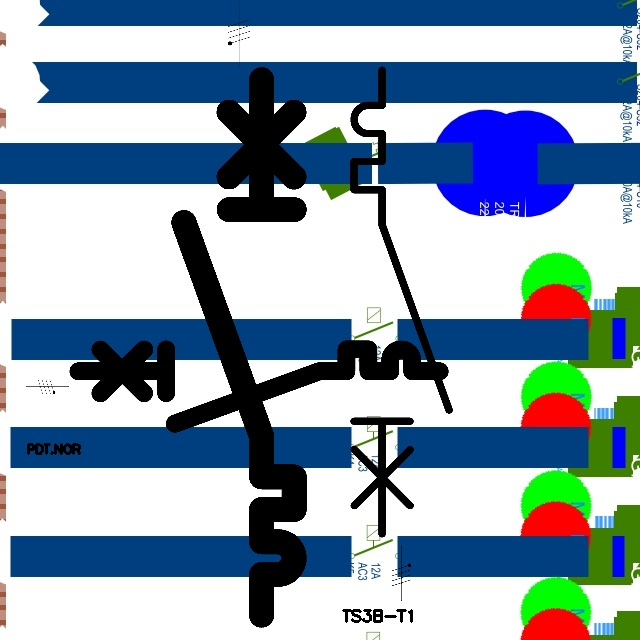interruptor_termomagnetico: (170, 65, 308, 628), (342, 58, 461, 546), (68, 340, 448, 433)
